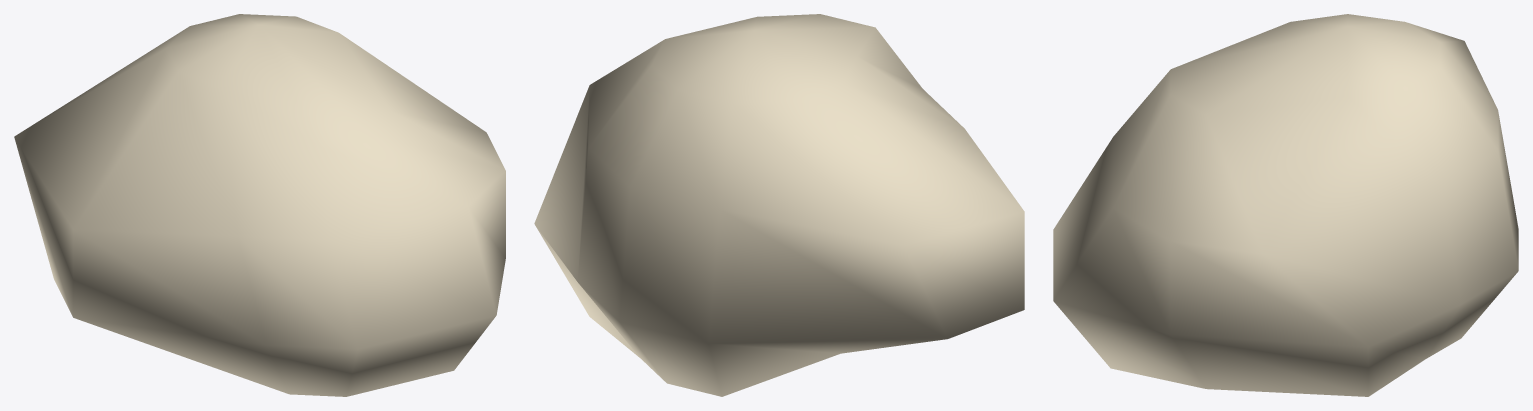
Rendered from popcorn1.fbx.
The picture shows the model from 3 angles, left to right: view 1: azimuth 30°, elevation 25°; view 2: azimuth 150°, elevation 25°; view 3: azimuth 270°, elevation 25°; orthographic projection. The views are drawn at different scales.
Visible parts, largest first — view 1: Sphere_2; view 2: Sphere_2; view 3: Sphere_2.
Boxes of the visible parts, left/top/right/bottom form: Sphere_2: left=14, top=14, right=505, bottom=396; Sphere_2: left=534, top=14, right=1024, bottom=396; Sphere_2: left=1053, top=14, right=1518, bottom=396.
Bounding box in the file's own units: 5.51 × 4.07 × 5.23.
